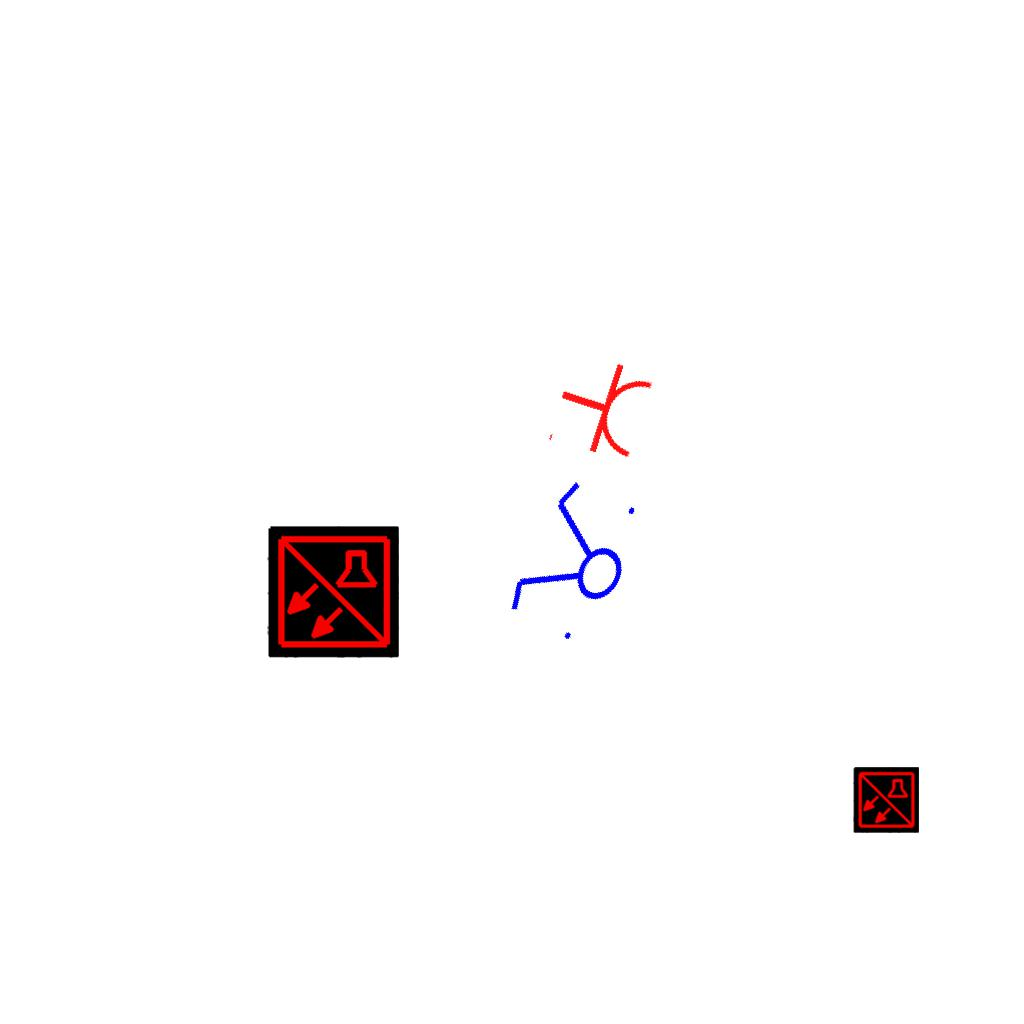OKW_Multisensormelder_(Kombination_optischer_Rauch-Kahlenmonoxid_Waerme-Melder): (267, 526, 399, 658), (853, 767, 919, 833)
Schukosteckdose_einfach: (544, 348, 659, 470)
Serienschalter: (495, 466, 657, 660)
